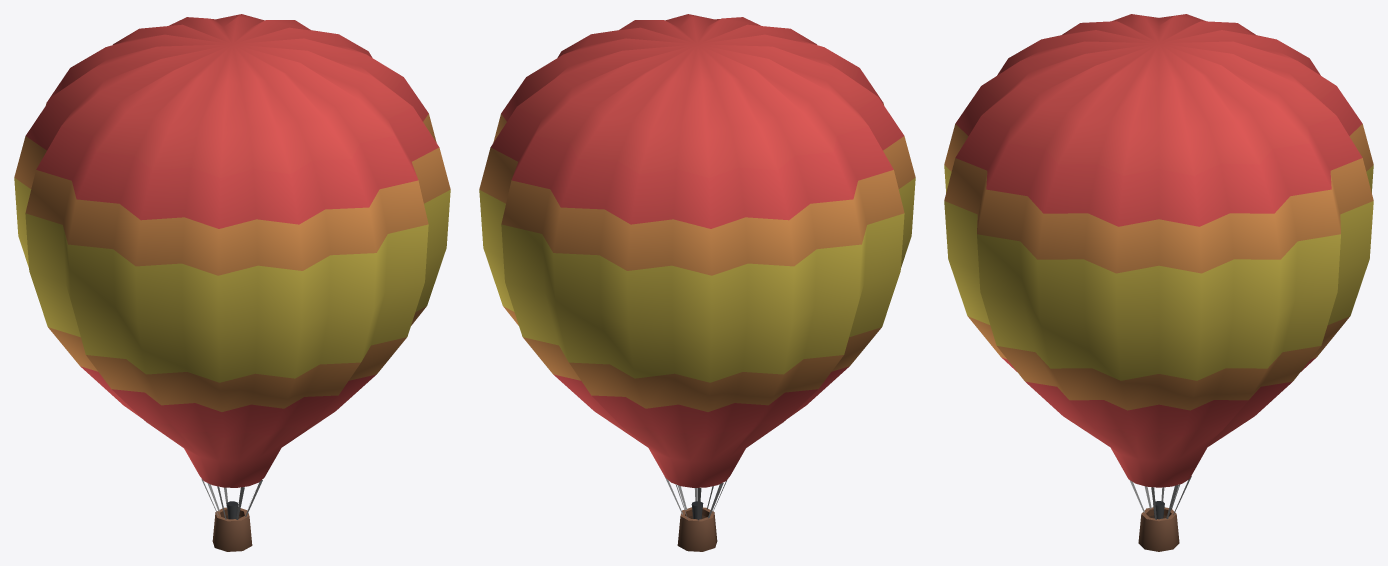
The model's file is vehicles-aircraft-hot-air-balloon_v3.glb.
3 views of the same model, side by side, from view 1: azimuth 30°, elevation 25°; view 2: azimuth 150°, elevation 25°; view 3: azimuth 270°, elevation 25° (orthographic).
Visible parts, largest first — view 1: Hot Air Balloon_v3; view 2: Hot Air Balloon_v3; view 3: Hot Air Balloon_v3.
Part boxes in pixels (x1=…): Hot Air Balloon_v3: x1=14, y1=14, x2=450, y2=551; Hot Air Balloon_v3: x1=479, y1=14, x2=915, y2=551; Hot Air Balloon_v3: x1=944, y1=14, x2=1373, y2=551.
Bounding box in the file's own units: 19.25 × 25 × 19.25.
